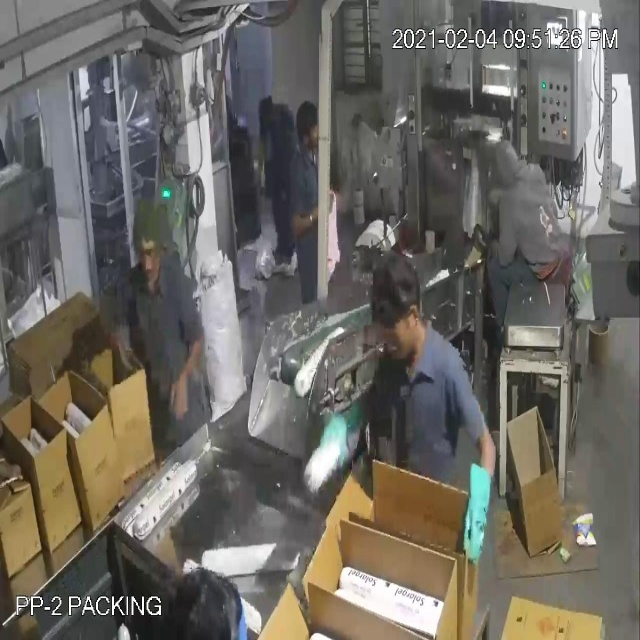Guantes: (291, 381, 375, 478), (454, 450, 496, 578)
Sin_guantes: (161, 326, 225, 437), (286, 188, 338, 259)
